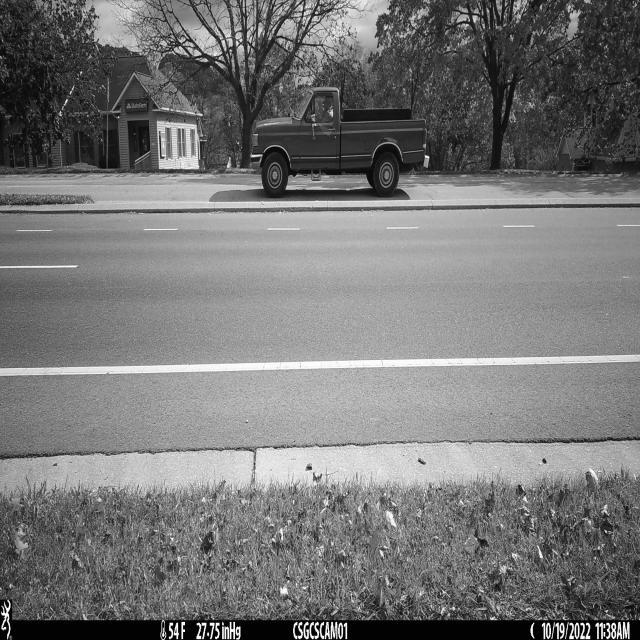Pickup: (251, 88, 429, 198)
